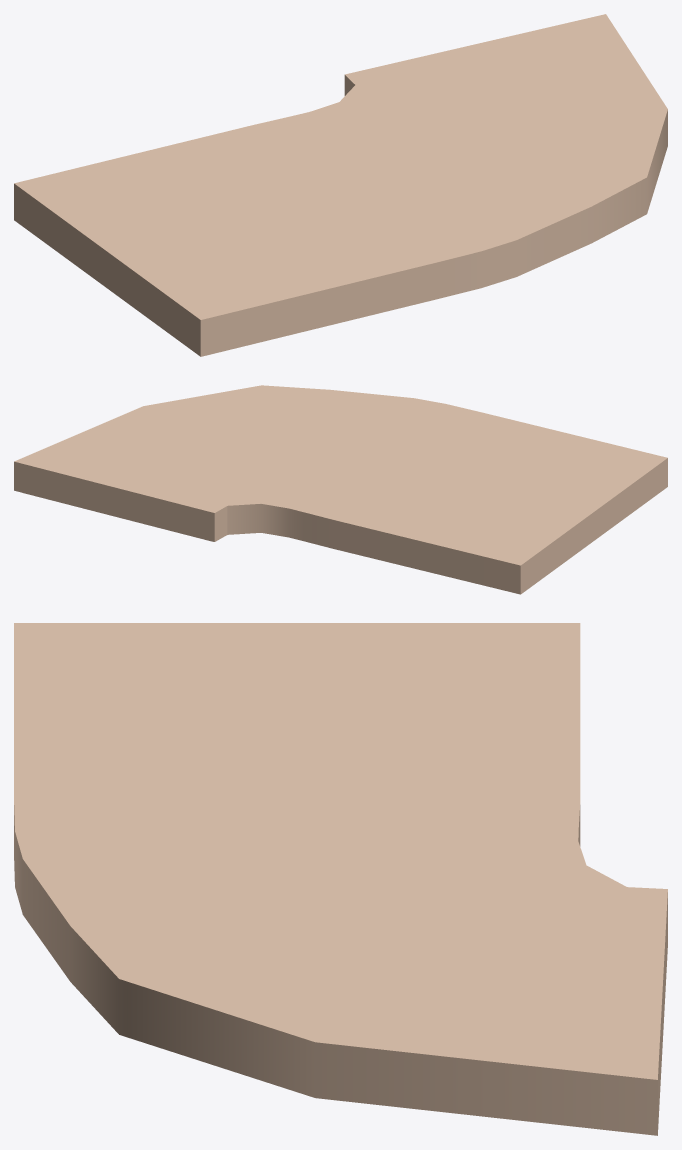
The model's file is SM_Comptoir05_top.fbx.
3 views of the same model, one above another, from view 1: azimuth 30°, elevation 25°; view 2: azimuth 150°, elevation 25°; view 3: azimuth 270°, elevation 25° (orthographic). The views are drawn at different scales.
Visible parts, largest first — view 1: Cube.062; view 2: Cube.062; view 3: Cube.062.
Boxes of the visible parts, x1,y1,x2,y2 form: Cube.062: (14, 14, 667, 356); Cube.062: (14, 385, 667, 594); Cube.062: (14, 623, 667, 1135).
Size of the model in its own units: 11642 by 700 by 7043.
